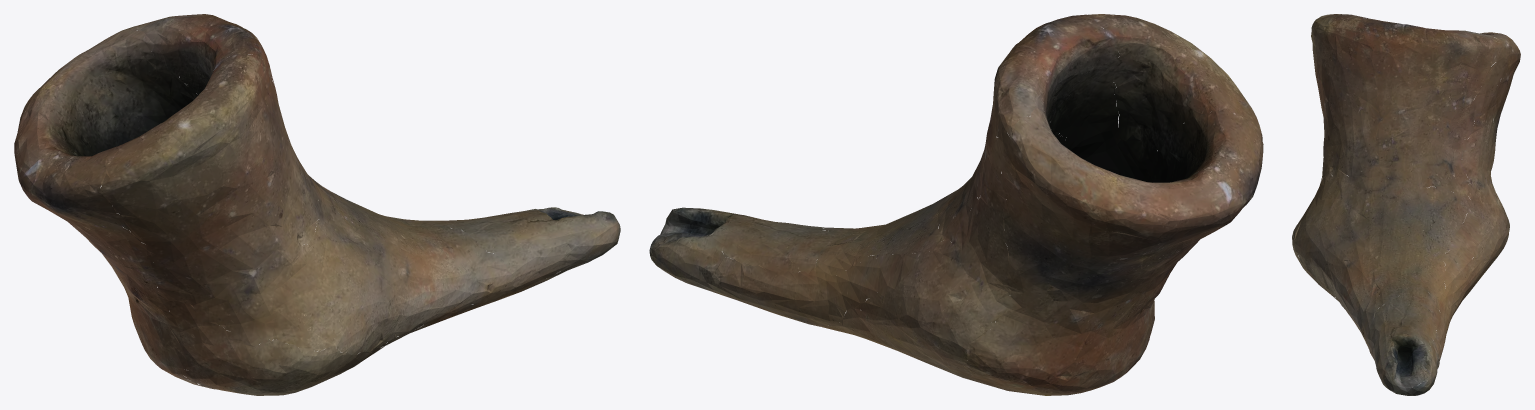
Rendered from Objeto_06_4k-b.glb.
3 views of the same model, side by side, from view 1: azimuth 30°, elevation 25°; view 2: azimuth 150°, elevation 25°; view 3: azimuth 270°, elevation 25° (orthographic). The views are drawn at different scales.
Visible parts, largest first — view 1: Mesh_0; view 2: Mesh_0; view 3: Mesh_0.
Boxes of the visible parts, box(x1,y1,x2,y2) form: Mesh_0: box(14, 14, 620, 395); Mesh_0: box(649, 14, 1263, 395); Mesh_0: box(1292, 14, 1520, 395).
Bounding box in the file's own units: 0.2088 × 0.1186 × 0.095.
1 material, 1 textured.
